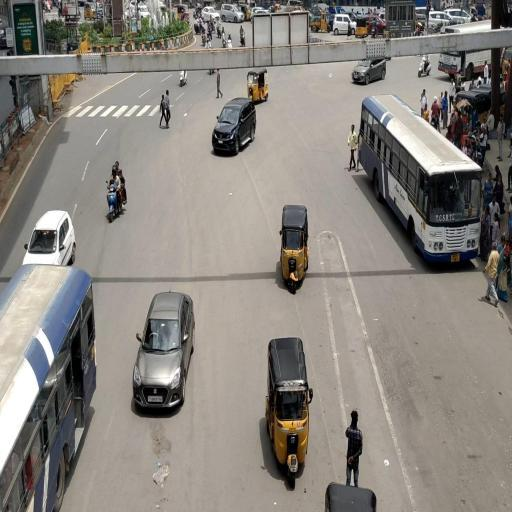helmet: (105, 156, 125, 222)
